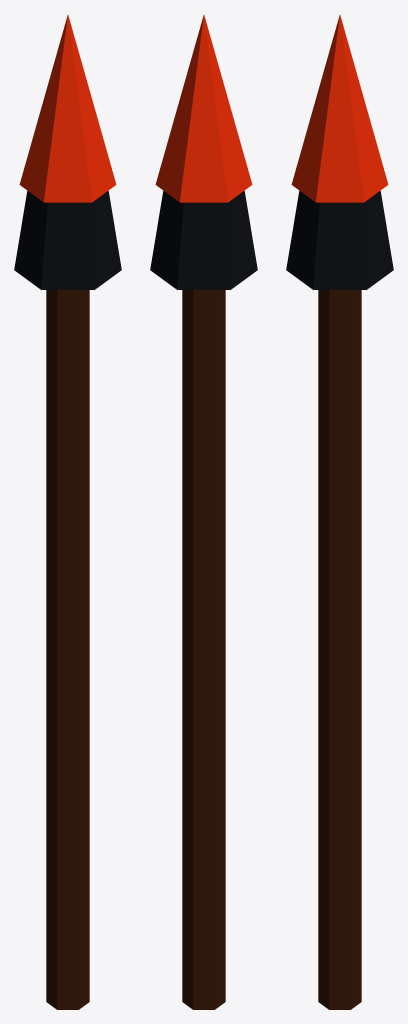
Rendered from torch_tiki.obj.
3 renders of one model, left to right at view 1: azimuth 30°, elevation 25°; view 2: azimuth 150°, elevation 25°; view 3: azimuth 330°, elevation 25°, orthographic.
Visible parts, largest first — view 1: torch_tiki; view 2: torch_tiki; view 3: torch_tiki.
Boxes of the visible parts, box(x1,y1,x2,y2) form: torch_tiki: box(14, 15, 121, 1009); torch_tiki: box(150, 15, 257, 1009); torch_tiki: box(286, 15, 393, 1009).
Bounding box in the file's own units: 0.1732 × 2.03 × 0.2.
